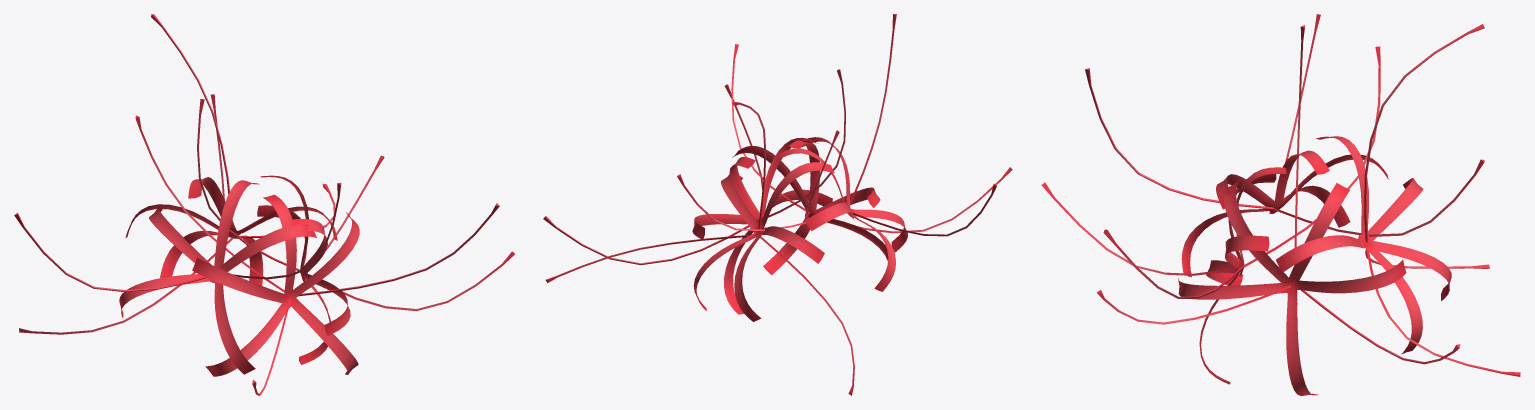
The model's file is higannbana.fbx.
3 views of the same model, side by side, from view 1: azimuth 30°, elevation 25°; view 2: azimuth 150°, elevation 25°; view 3: azimuth 270°, elevation 25° (orthographic). The views are drawn at different scales.
Parts seen in each view (by area): view 1: higannbana; view 2: higannbana; view 3: higannbana.
Part boxes in pixels (<box>): higannbana: <box>14,14,514,395</box>; higannbana: <box>543,14,1012,395</box>; higannbana: <box>1041,14,1520,395</box>.
Bounding box in the file's own units: 0.3374 × 0.2289 × 0.2965.
Materials: 1 (1 with a texture image).
